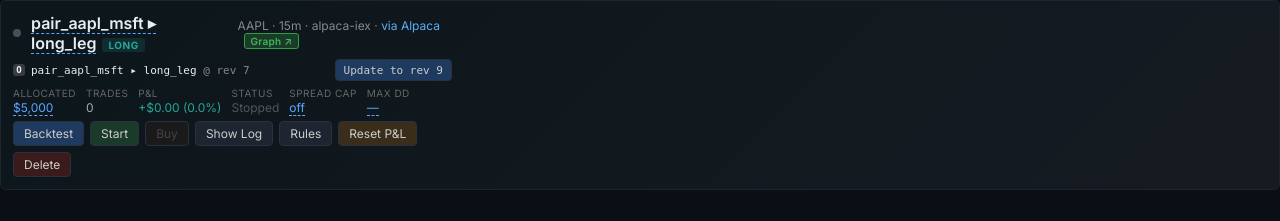
BotCard graph line (S35) › a 503 broker_unavailable asks to try again and keeps the button
The image size is (1280, 221).
Click the button "Update to rev 9". click: coordinates (393, 70)
box: [334,59,452,81]
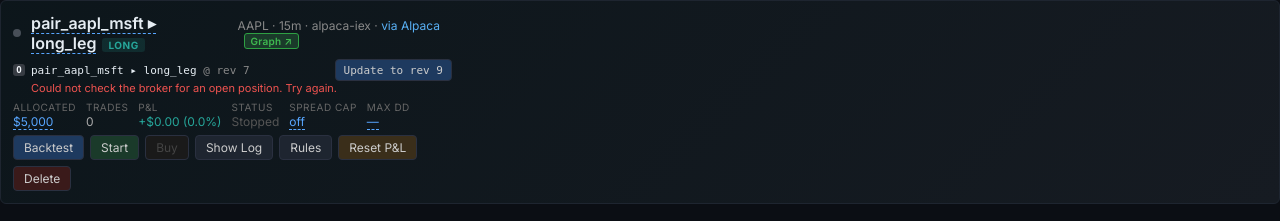
Expected: the message with test id "botcard-graph-error" reads "Could not check the broker for an open position. Try again.", [31,81,337,95]
